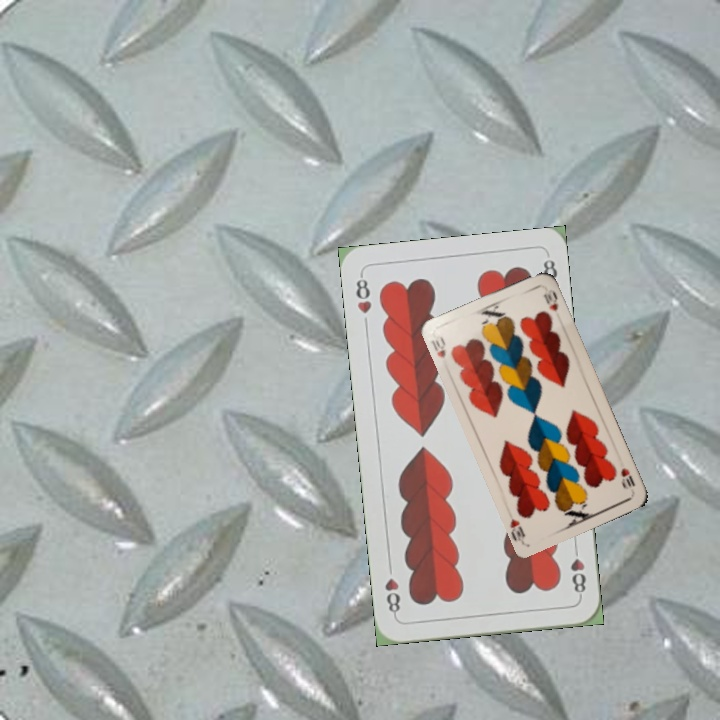H10: (426, 332, 449, 360), (617, 464, 638, 490)
H8: (566, 541, 589, 600), (352, 270, 374, 316)
